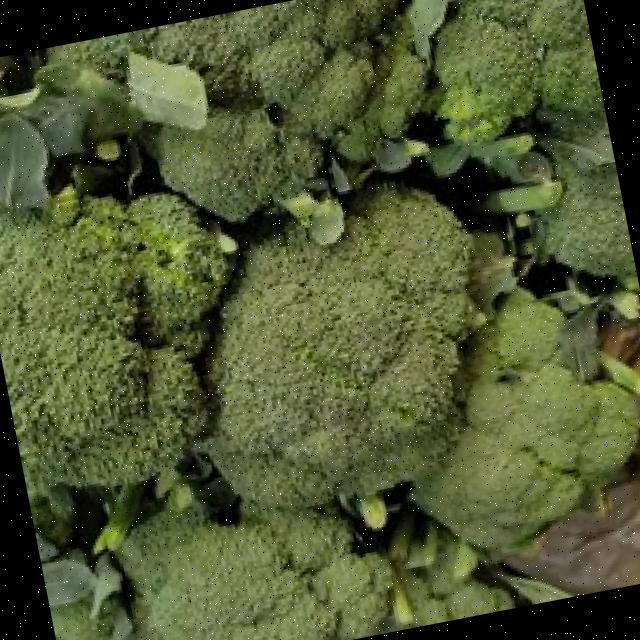Broccoli: (210, 187, 481, 506), (209, 187, 480, 505), (0, 195, 232, 484), (0, 193, 230, 484), (415, 290, 638, 550), (415, 291, 638, 550), (129, 0, 398, 136), (118, 506, 390, 640), (134, 0, 397, 136), (119, 509, 390, 640), (434, 0, 604, 140), (435, 0, 604, 139), (158, 107, 324, 221), (159, 107, 324, 220)
